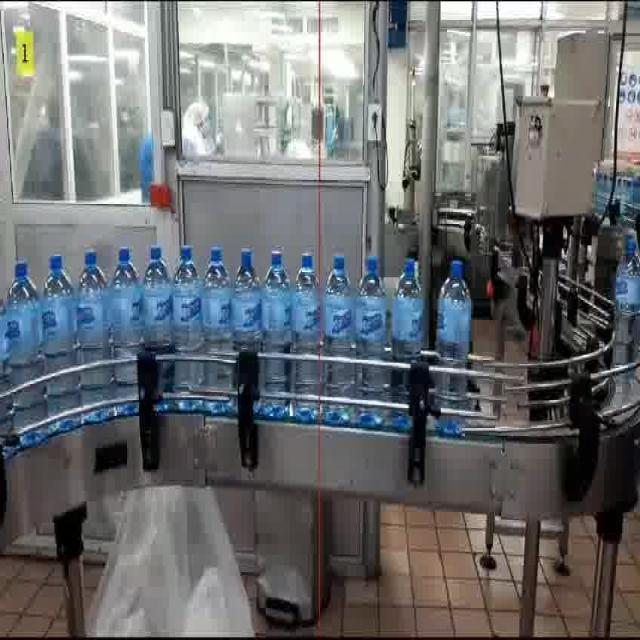bottle: (356, 256, 394, 428), (388, 253, 426, 424), (138, 241, 176, 412), (320, 253, 357, 424), (256, 246, 293, 417), (198, 247, 235, 418), (230, 246, 266, 417), (433, 258, 473, 411), (289, 250, 323, 423), (8, 262, 46, 404), (41, 252, 78, 396), (73, 247, 110, 390), (109, 245, 146, 388), (169, 243, 204, 353)
